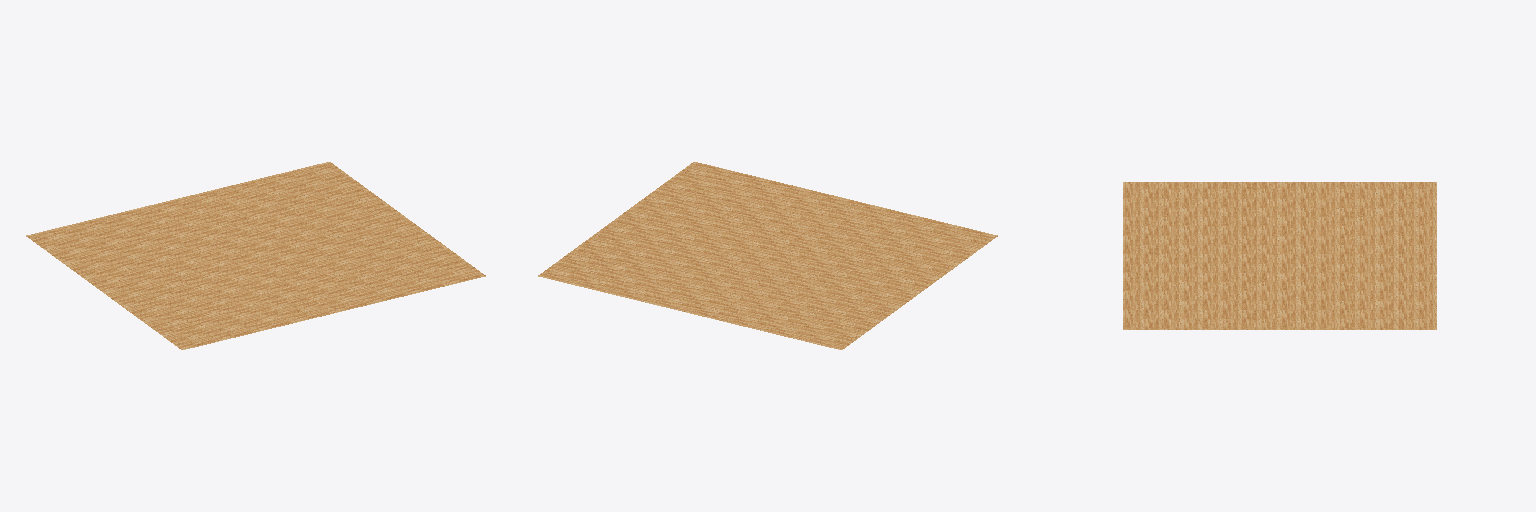
3 renders of one model, left to right at view 1: azimuth 30°, elevation 25°; view 2: azimuth 150°, elevation 25°; view 3: azimuth 270°, elevation 25°, orthographic.
Parts seen in each view (by area): view 1: Piso; view 2: Piso; view 3: Piso.
Boxes of the visible parts, <box> form: Piso: <box>26,162,485,349</box>; Piso: <box>538,162,997,349</box>; Piso: <box>1123,182,1436,329</box>.
Bounding box in the file's own units: 873 × 0 × 779.
Materials: 1 (1 with a texture image).